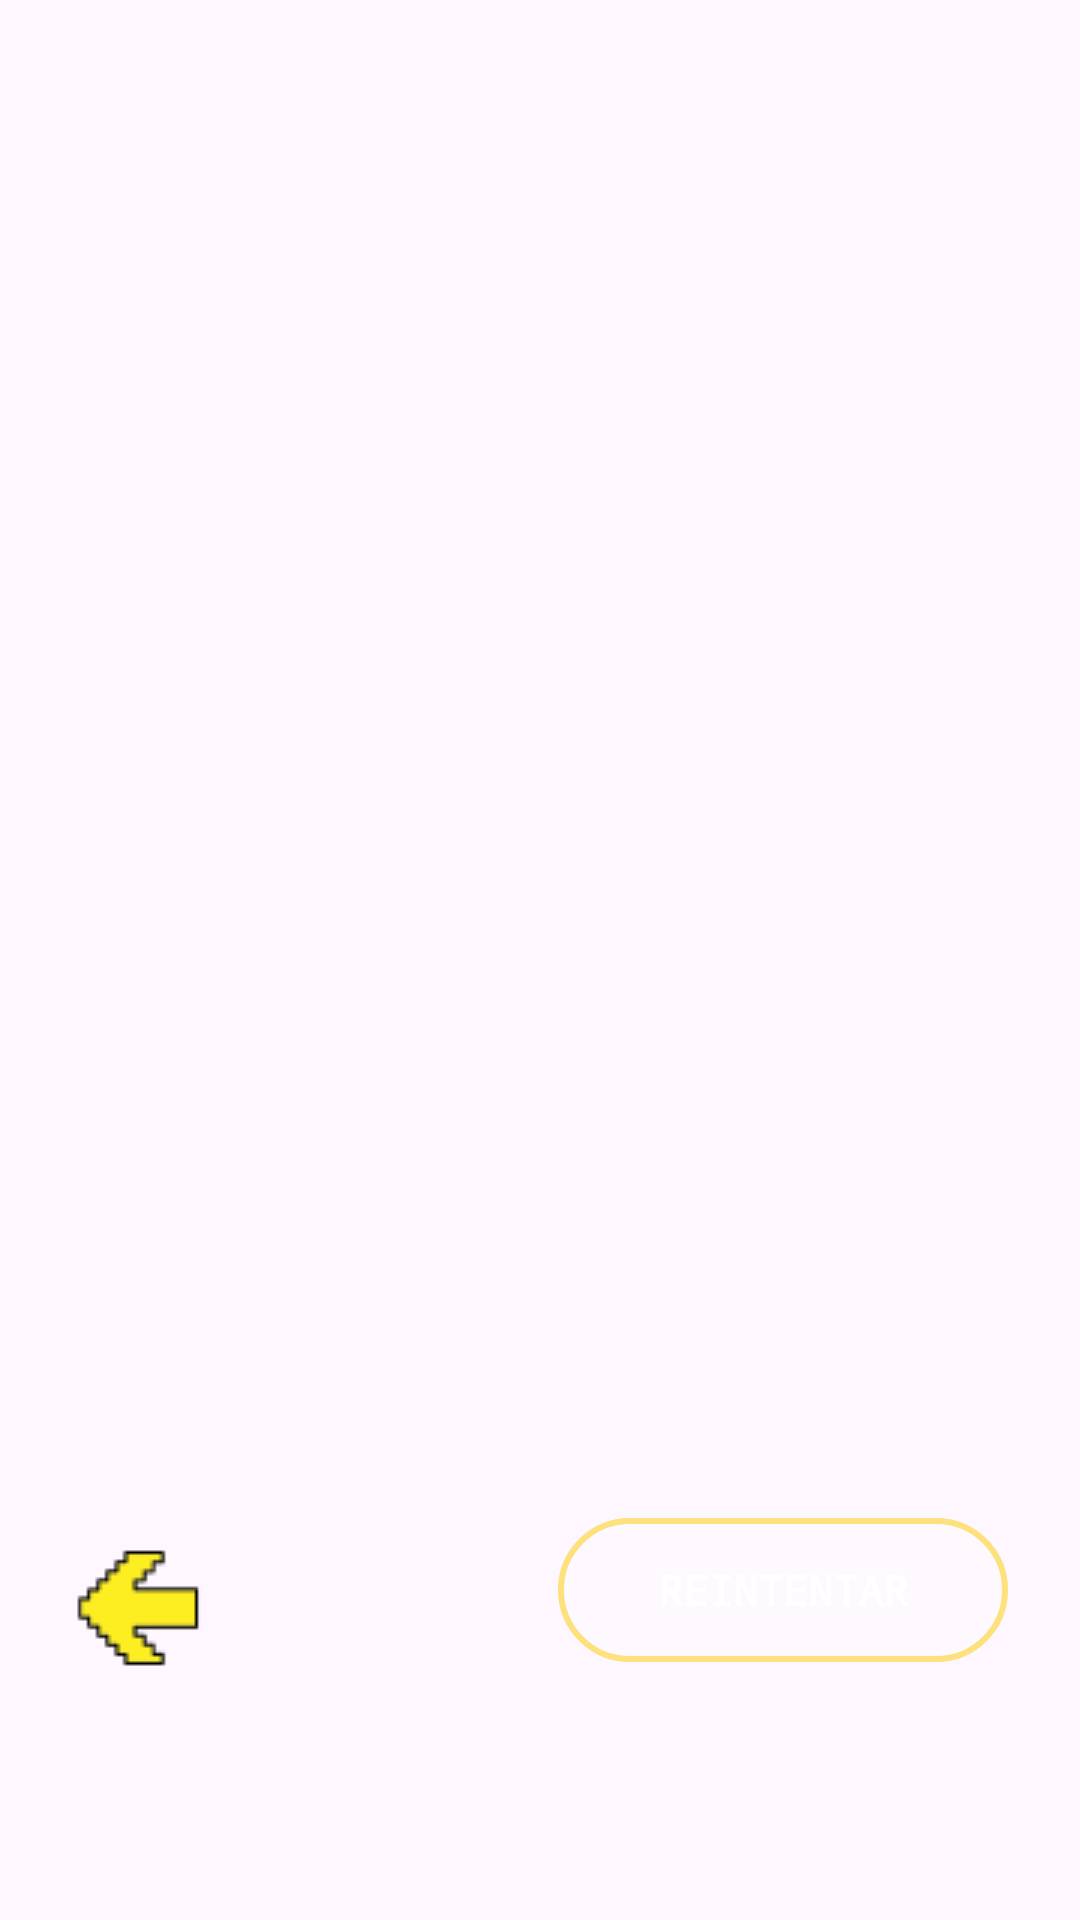

Where to tap for icons on this 1080×1920 app screen, as point (x, y):
exit: point (138, 1608)
